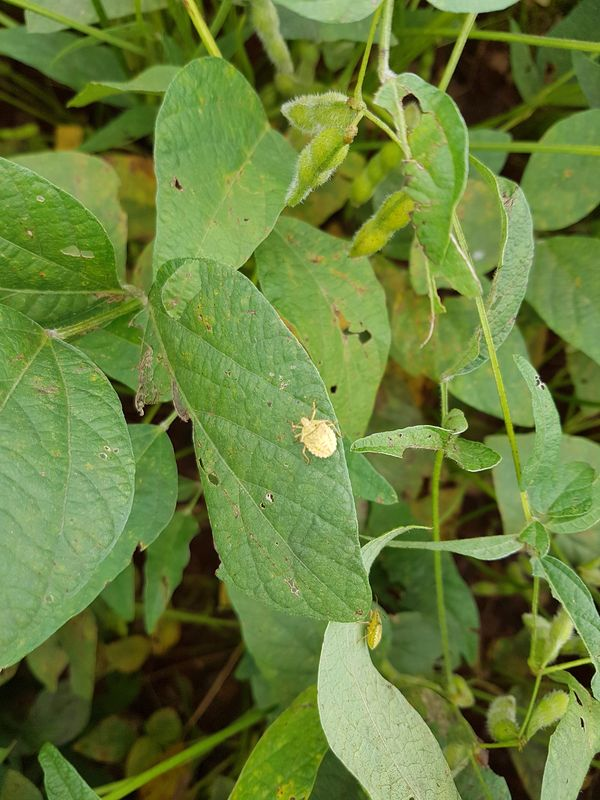Euschistus_heros_ninfa: (285, 398, 350, 472), (351, 594, 396, 655)
